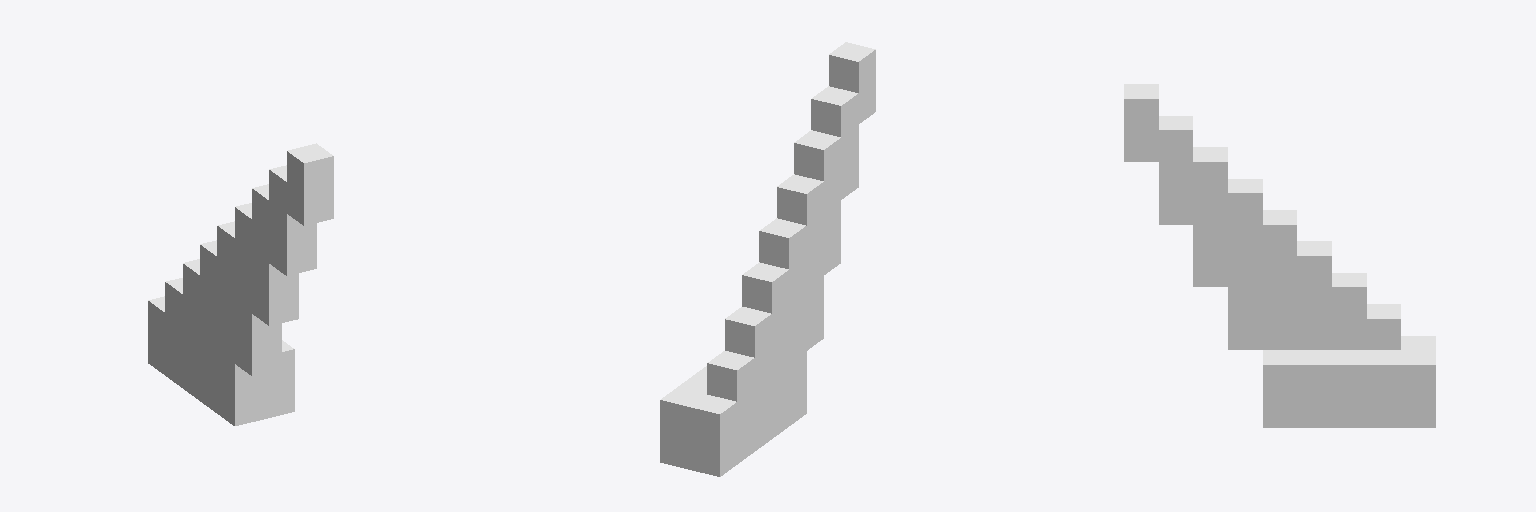
The model's file is Wingback2.obj.
3 views of the same model, side by side, from view 1: azimuth 30°, elevation 25°; view 2: azimuth 150°, elevation 25°; view 3: azimuth 270°, elevation 25° (orthographic).
Parts seen in each view (by area): view 1: object 1; view 2: object 1; view 3: object 1.
Boxes of the visible parts, <box> form: object 1: <box>148,143,333,425</box>; object 1: <box>660,42,875,476</box>; object 1: <box>1124,84,1435,427</box>.
Size of the model in its own units: 0.2 by 1 by 0.9.